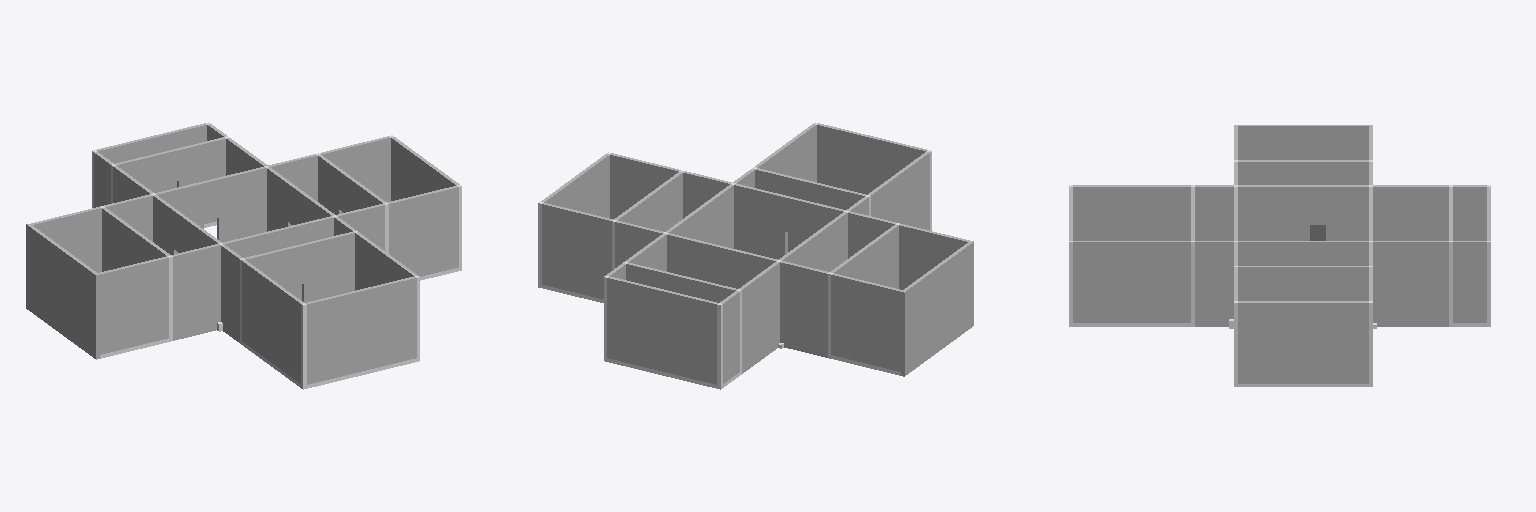
3 renders of one model, left to right at view 1: azimuth 30°, elevation 25°; view 2: azimuth 150°, elevation 25°; view 3: azimuth 270°, elevation 25°, orthographic.
Size of the model in its own units: 100 by 22 by 100.
1 materials, 1 textured.